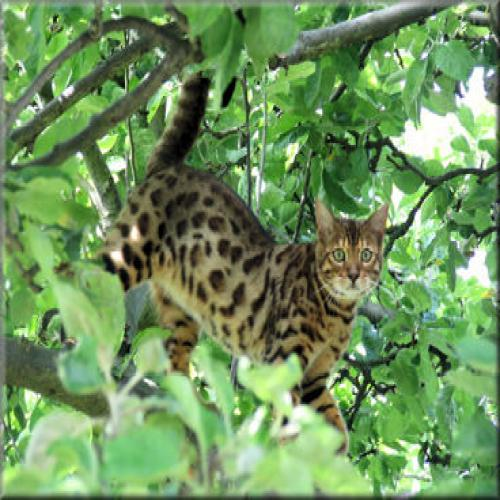cat-face: (313, 200, 394, 302)
